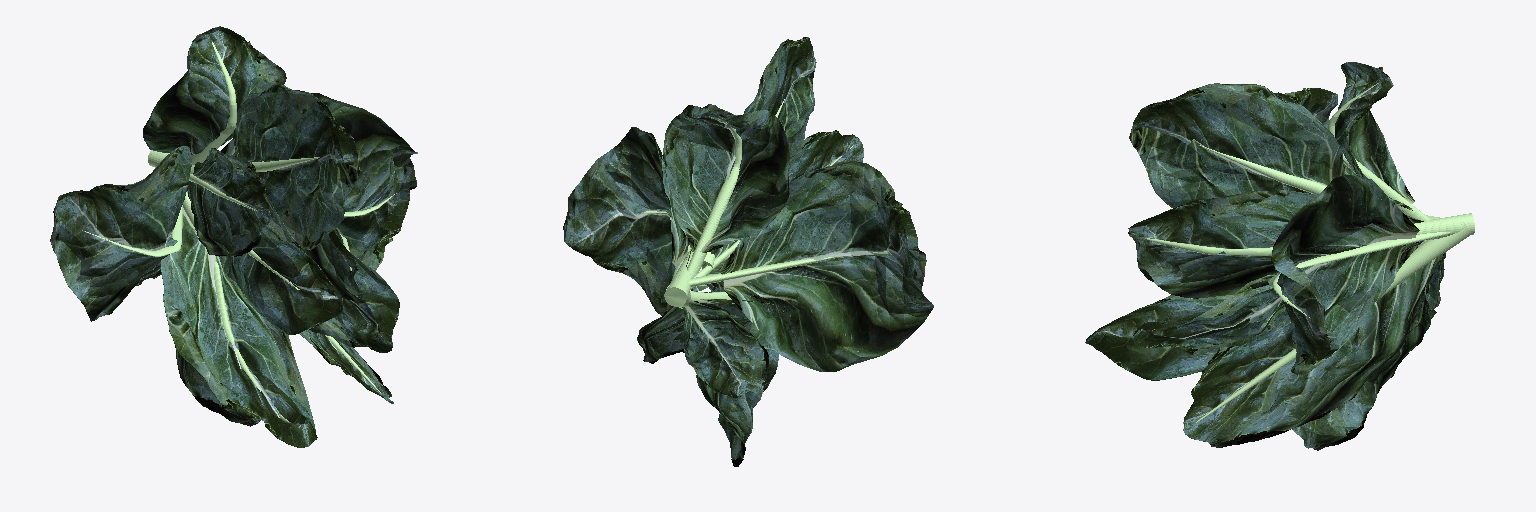
The picture shows the model from 3 angles: view 1: azimuth 30°, elevation 25°; view 2: azimuth 150°, elevation 25°; view 3: azimuth 270°, elevation 25°; orthographic projection.
Visible parts, largest first — view 1: plant_Cylinder.041; view 2: plant_Cylinder.041; view 3: plant_Cylinder.041.
Boxes of the visible parts, box(x1,y1,x2,y2) form: plant_Cylinder.041: box(50, 26, 417, 447); plant_Cylinder.041: box(563, 37, 933, 466); plant_Cylinder.041: box(1085, 62, 1474, 450).
Bounding box in the file's own units: 0.3235 × 0.3206 × 0.3012.
Materials: 2 (1 with a texture image).